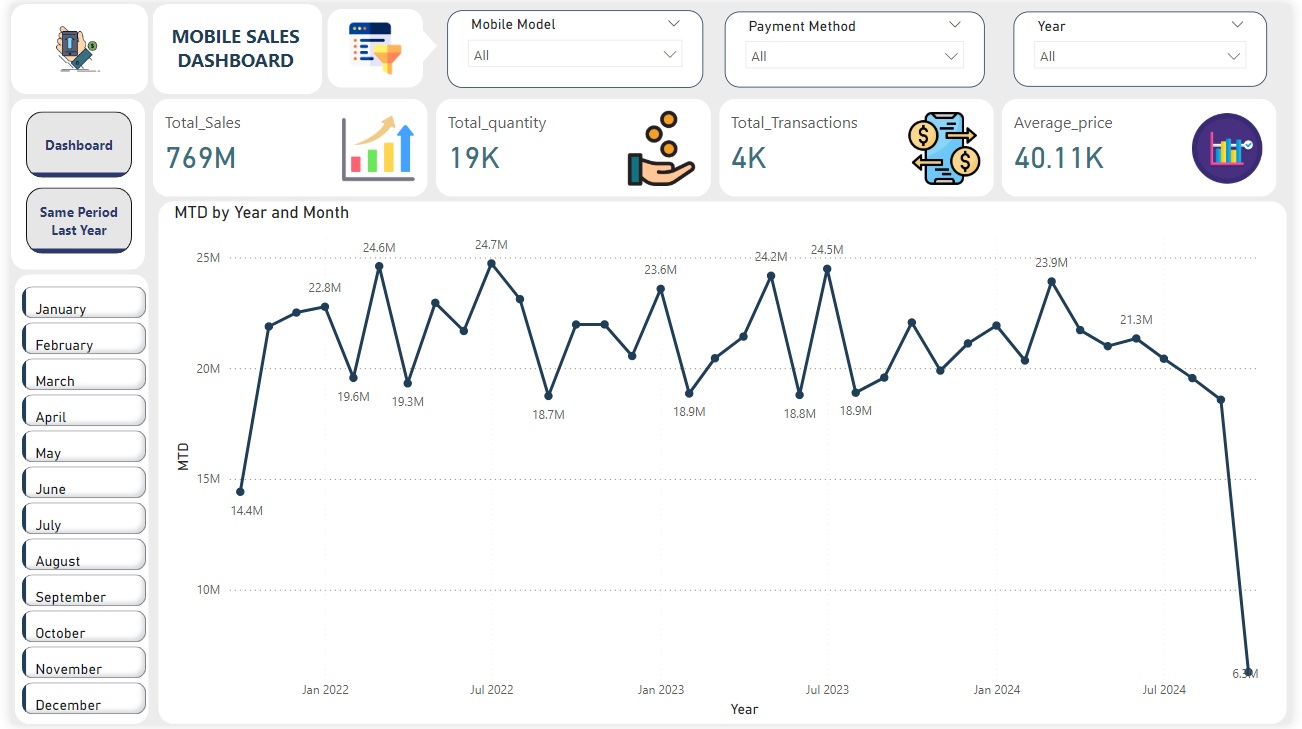

The dashboard page shown, as its layout file describes it:
{"tool":"powerbi","page":{"name":"MTD Report","canvas":[1280,720],"ordinal":1},"visuals":[{"type":"shape","box":[0,0,137.1,90],"z":0},{"type":"image","box":[0,0,134,90],"z":1000},{"type":"shape","box":[0,90,134,176],"z":2000},{"type":"cardVisual","fields":{"Data":["Sales_Data.Total_Sales","Sales_Data.Total_quantity","Sales_Data.Total_Transactions","Avg(Sales_Data.average_price)"]},"box":[134,90,1142,108],"z":3000},{"type":"slicer","fields":{"Values":["Sales_Data.Mobile Model"]},"box":[436.2,6.2,256.2,77.5],"z":4000},{"type":"slicer","fields":{"Values":["Sales_Data.Payment Method"]},"box":[713.8,7.5,260,76.2],"z":5000},{"type":"slicer","fields":{"Values":["Custom_Calendar.Date.Variation.Date Hierarchy.Year","Custom_Calendar.Date.Variation.Date Hierarchy.Quarter","Custom_Calendar.Date.Variation.Date Hierarchy.Month","Custom_Calendar.Date.Variation.Date Hierarchy.Day"]},"box":[1002.5,7.5,253.8,75],"z":6000},{"type":"shape","box":[316,0,96,84],"z":7000},{"type":"image","box":[326,14,76,62],"z":8000},{"type":"shape","box":[386,20,40,44],"z":9000},{"type":"shape","box":[138,0,178,90],"z":10000},{"type":"textbox","box":[152,14,144,70],"z":11000},{"type":"lineChart","fields":{"Y":["Sales_Data.MTD"],"Category":["Custom_Calendar.Date.Variation.Date Hierarchy.Year","Custom_Calendar.Date.Variation.Date Hierarchy.Month"]},"box":[148,198,1128,522],"z":12000},{"type":"shape","box":[4,266,134,454],"z":13000},{"type":"advancedSlicerVisual","fields":{"Values":["Custom_Calendar.Date.Variation.Date Hierarchy.Month"]},"box":[6,278,134,442],"z":14000},{"type":"pageNavigator","box":[15.6,106.9,106.9,143.9],"z":14001}]}

Visuals, with their boxes in screenshot pixels (x1, y1, x2, y2), scaled from the page's 1280x720 canvas onto the 1302x729 screenshot:
shape: <bbox>0, 0, 139, 91</bbox>
image: <bbox>0, 0, 136, 91</bbox>
shape: <bbox>0, 91, 136, 269</bbox>
cardVisual - Sales_Data.Total_Sales x Sales_Data.Total_quantity: <bbox>136, 91, 1298, 200</bbox>
slicer - Sales_Data.Mobile Model: <bbox>444, 6, 704, 85</bbox>
slicer - Sales_Data.Payment Method: <bbox>726, 8, 991, 85</bbox>
slicer - Custom_Calendar.Date.Variation.Date Hierarchy.Year x Custom_Calendar.Date.Variation.Date Hierarchy.Quarter: <bbox>1020, 8, 1278, 84</bbox>
shape: <bbox>321, 0, 419, 85</bbox>
image: <bbox>332, 14, 409, 77</bbox>
shape: <bbox>393, 20, 433, 65</bbox>
shape: <bbox>140, 0, 321, 91</bbox>
textbox: <bbox>155, 14, 301, 85</bbox>
lineChart - Sales_Data.MTD x Custom_Calendar.Date.Variation.Date Hierarchy.Year: <bbox>151, 200, 1298, 728</bbox>
shape: <bbox>4, 269, 140, 728</bbox>
advancedSlicerVisual - Custom_Calendar.Date.Variation.Date Hierarchy.Month: <bbox>6, 281, 142, 728</bbox>
pageNavigator: <bbox>16, 108, 125, 254</bbox>
